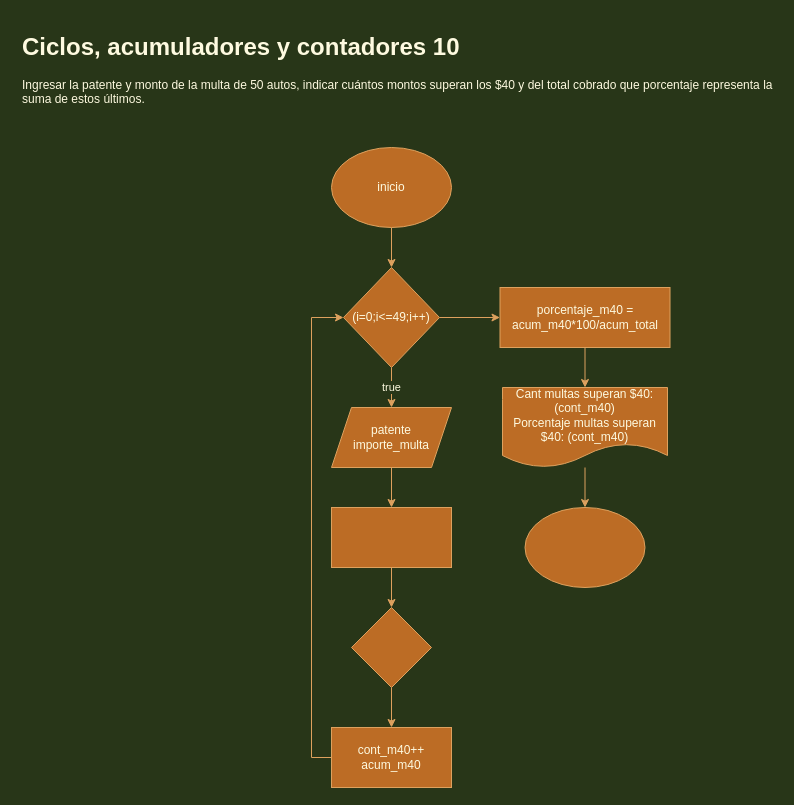
Image size: 794x805. Some labels were removed from this diagram. The shapes that lost their labels are listed below. From the top down, each one's centre as x and y in pixels, then its label:
At (x=391, y=537): "acum_total".
At (x=584, y=547): "fin".
At (x=391, y=647): "¿importe_multa > 40?".
